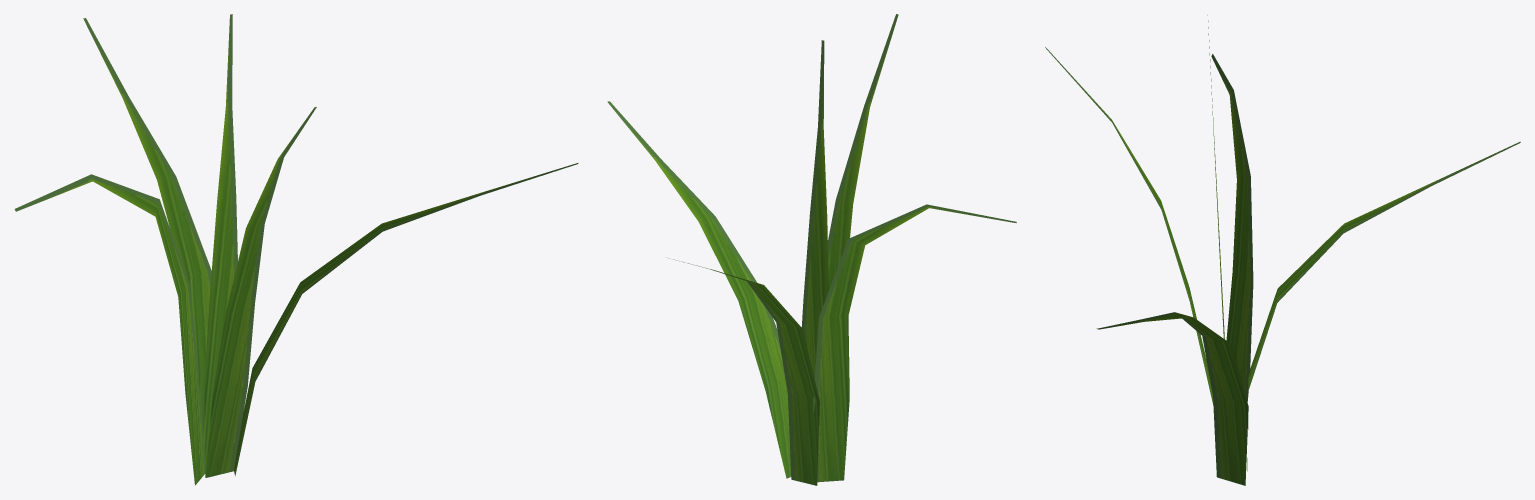
File: Grass.fbx
3 renders of one model, left to right at view 1: azimuth 30°, elevation 25°; view 2: azimuth 150°, elevation 25°; view 3: azimuth 270°, elevation 25°, orthographic. The views are drawn at different scales.
Visible parts, largest first — view 1: grass6; view 2: grass6; view 3: grass6.
Part boxes in pixels (x1,y1,x2,y2): grass6: [14, 14, 578, 485]; grass6: [607, 14, 1016, 485]; grass6: [1045, 15, 1520, 485].
Bounding box in the file's own units: 17.89 × 15.91 × 14.85.
Materials: 1 (1 with a texture image).
